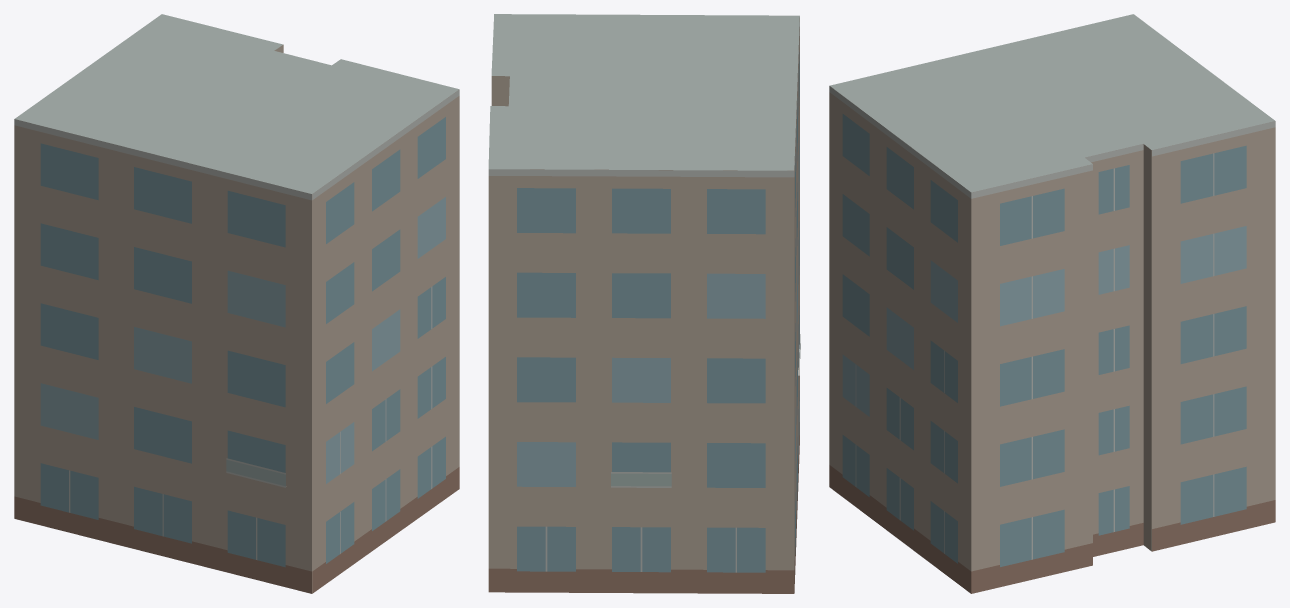
The model's file is survey-upis-32716743.glb.
3 views of the same model, side by side, from view 1: azimuth 30°, elevation 25°; view 2: azimuth 150°, elevation 25°; view 3: azimuth 270°, elevation 25° (orthographic). The views are drawn at different scales.
Visible parts, largest first — view 1: survey-upis-32716743.tmp; view 2: survey-upis-32716743.tmp; view 3: survey-upis-32716743.tmp.
Part boxes in pixels (x1,y1,x2,y2): survey-upis-32716743.tmp: [14, 14, 459, 593]; survey-upis-32716743.tmp: [488, 14, 800, 593]; survey-upis-32716743.tmp: [829, 14, 1275, 593].
Size of the model in its own units: 14.8 by 15.5 by 15.62.
